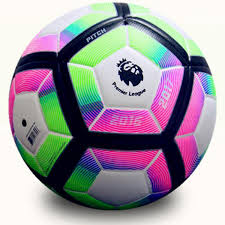top: (9, 1, 219, 216)
